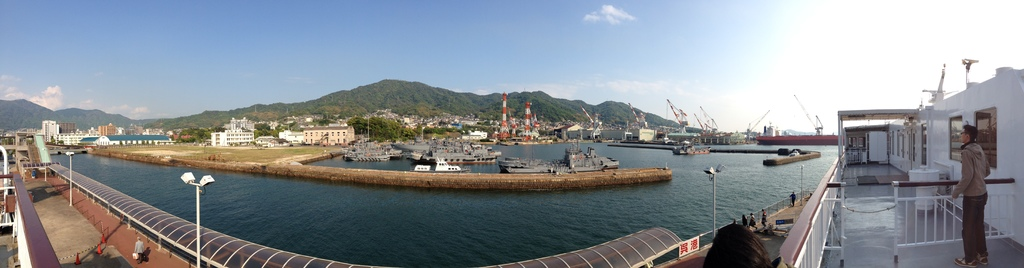boat: (496, 137, 627, 181), (406, 133, 501, 168), (403, 151, 475, 180), (754, 132, 840, 148), (672, 134, 717, 164)
